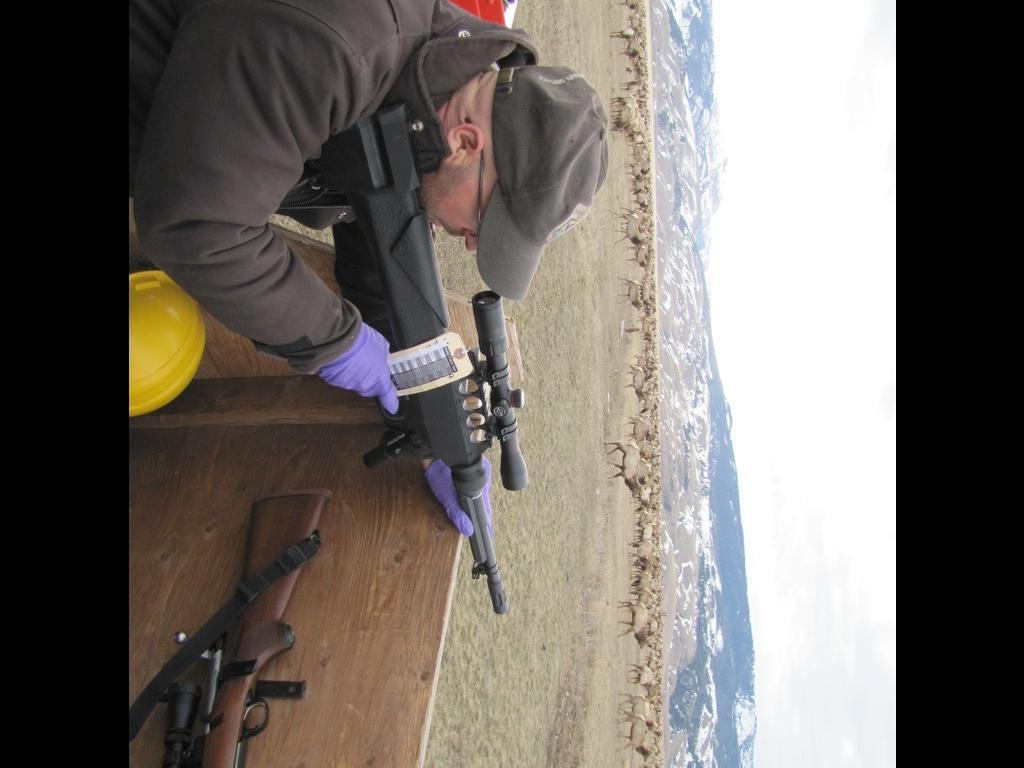gun: (324, 101, 526, 614)
